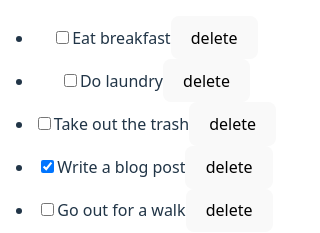
Test case: TodoList component › delete a todo from list when delete button is clicked
The width and height of the screenshot is (320, 233).
Expected: the text "Eat breakfast" is shown, [52,27,171,49]
Click the button with aria-label "delete Eat breakfast".
click(214, 38)  # box [171,16,258,59]
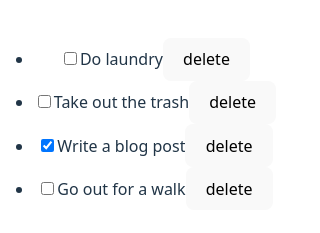
Expected: the text "Eat breakfast" is gone
